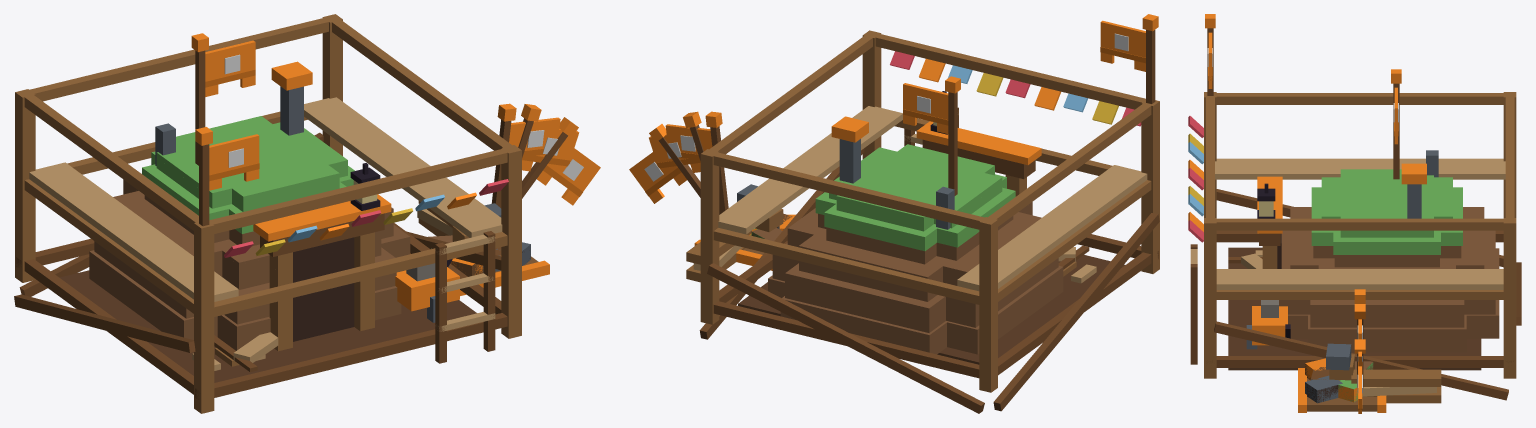
The model's file is bumblebee-research.glb.
The picture shows the model from 3 angles, left to right: view 1: azimuth 30°, elevation 25°; view 2: azimuth 150°, elevation 25°; view 3: azimuth 270°, elevation 25°; orthographic projection. The views are drawn at different scales.
Visible parts, largest first — view 1: scaffold-mesh, built-mesh, dismantle-75-mesh, dismantle-50-mesh, banner, scaffold-banner, dismantle-25-banner, flag-pole, dismantle-75-banner, scaffold-flag-pole, dismantle-50-banner, dismantle-25-mesh (+3 smaller); view 2: scaffold-mesh, dismantle-75-mesh, built-mesh, dismantle-50-mesh, scaffold-banner, banner, dismantle-25-banner, flag-pole, dismantle-75-banner, scaffold-flag-pole, dismantle-50-banner, dismantle-75-flag-pole (+2 smaller); view 3: scaffold-mesh, built-mesh, dismantle-75-mesh, dismantle-50-mesh, dismantle-25-mesh, flag-pole, scaffold-flag-pole.
Boxes of the visible parts, <box> form: scaffold-mesh: <box>14,14,521,413</box>; built-mesh: <box>90,61,452,350</box>; dismantle-75-mesh: <box>59,151,549,382</box>; dismantle-50-mesh: <box>94,230,549,365</box>; banner: <box>205,40,255,96</box>; scaffold-banner: <box>209,134,259,190</box>; dismantle-25-banner: <box>537,141,600,205</box>; flag-pole: <box>191,33,208,165</box>; dismantle-75-banner: <box>509,117,560,158</box>; scaffold-flag-pole: <box>195,127,212,226</box>; dismantle-50-banner: <box>522,126,579,176</box>; dismantle-25-mesh: <box>184,203,545,361</box>; scaffold-mesh: <box>686,30,1159,413</box>; dismantle-75-mesh: <box>694,139,1124,362</box>; built-mesh: <box>768,91,1062,354</box>; dismantle-50-mesh: <box>695,213,1096,332</box>; scaffold-banner: <box>1100,20,1145,71</box>; banner: <box>903,83,948,133</box>; dismantle-25-banner: <box>629,146,686,203</box>; flag-pole: <box>945,76,960,195</box>; dismantle-75-banner: <box>665,124,712,160</box>; scaffold-flag-pole: <box>1142,14,1158,103</box>; dismantle-50-banner: <box>649,132,700,177</box>; dismantle-75-flag-pole: <box>705,111,728,214</box>; scaffold-mesh: <box>1188,92,1521,403</box>; built-mesh: <box>1252,150,1499,345</box>; dismantle-75-mesh: <box>1228,187,1484,412</box>; dismantle-50-mesh: <box>1241,250,1386,412</box>; dismantle-25-mesh: <box>1241,258,1385,412</box>; flag-pole: <box>1391,69,1401,179</box>; scaffold-flag-pole: <box>1205,14,1215,95</box>.
Size of the model in its own units: 2.67 by 1.55 by 1.85.
